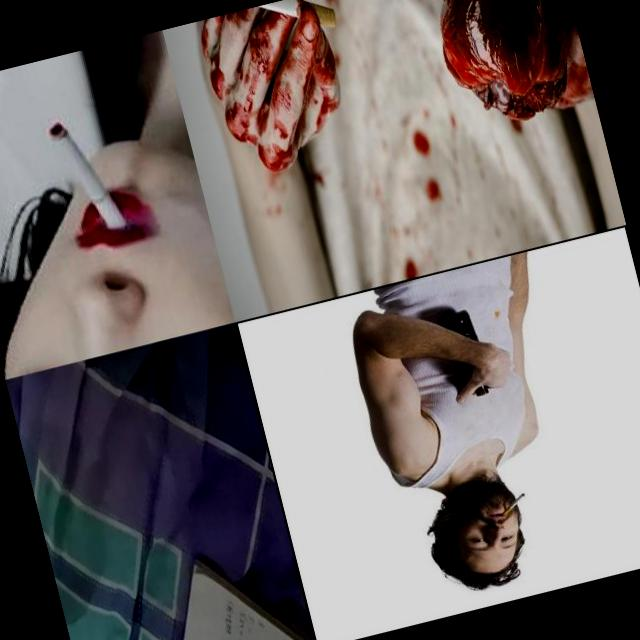cigarette: (44, 110, 128, 245), (229, 0, 339, 55), (498, 492, 530, 516)
